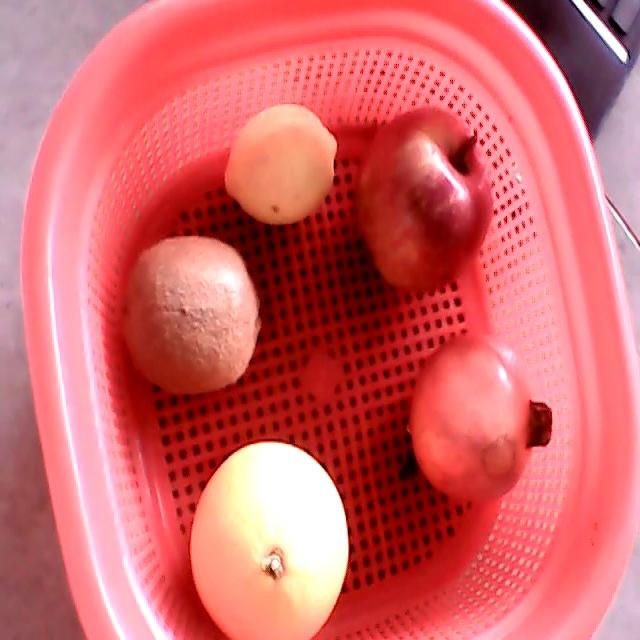apple: (355, 107, 495, 297)
kiwi: (120, 235, 262, 395)
lemon: (224, 103, 338, 226)
orange: (189, 441, 349, 639)
pomegranate: (411, 331, 553, 508)
